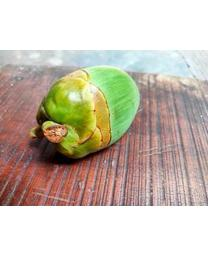coconut: (34, 65, 140, 161)
